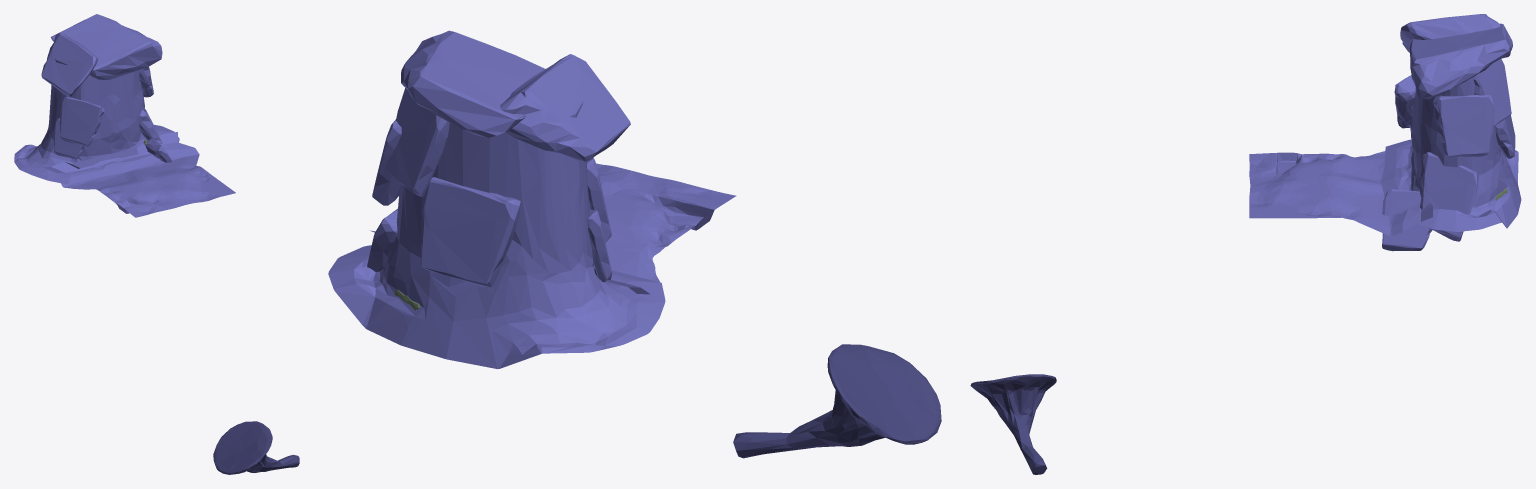
Rendered from CA1_ceiling.fbx.
The picture shows the model from 3 angles, left to right: view 1: azimuth 30°, elevation 25°; view 2: azimuth 150°, elevation 25°; view 3: azimuth 270°, elevation 25°; orthographic projection. The views are drawn at different scales.
Parts seen in each view (by area): view 1: CA1_ceiling2, CA1_ceiling1, CA1_wall_embellishment2_UVd9, big_ass_mush6, CA1_wall_embellishment2_UVd8, CA1_wall_embellishment2_UVd2, CA1_wall_embellishment2_UVd1, CA1_wall_embellishment2_UVd4, CA1_wall_embellishment2_UVd5, CA1_wall_embellishment2_UVd7; view 2: CA1_ceiling2, big_ass_mush6, CA1_wall_embellishment2_UVd9, CA1_ceiling1, CA1_wall_embellishment2_UVd8, CA1_wall_embellishment2_UVd3, CA1_wall_embellishment2_UVd6, CA1_wall_embellishment2_UVd7, CA1_wall_embellishment2_UVd4, CA1_wall_embellishment2_UVd1, CA1_wall_embellishment2_UVd2; view 3: CA1_ceiling1, CA1_ceiling2, CA1_wall_embellishment2_UVd9, big_ass_mush6, CA1_wall_embellishment2_UVd7, CA1_wall_embellishment2_UVd4, CA1_wall_embellishment2_UVd8, CA1_wall_embellishment2_UVd5, CA1_wall_embellishment2_UVd6, CA1_wall_embellishment2_UVd2, CA1_wall_embellishment2_UVd3.
Boxes of the visible parts, x1,y1,x2,y2 form: CA1_ceiling2: (14,59,179,184); CA1_ceiling1: (43,132,235,217); CA1_wall_embellishment2_UVd9: (51,14,162,79); big_ass_mush6: (213,421,299,474); CA1_wall_embellishment2_UVd8: (41,32,98,97); CA1_wall_embellishment2_UVd2: (60,96,104,146); CA1_wall_embellishment2_UVd1: (53,118,84,159); CA1_wall_embellishment2_UVd4: (139,107,162,144); CA1_wall_embellishment2_UVd5: (145,138,172,162); CA1_wall_embellishment2_UVd7: (139,66,153,97); CA1_ceiling2: (328,101,665,369); big_ass_mush6: (733,344,941,458); CA1_wall_embellishment2_UVd9: (401,30,545,137); CA1_ceiling1: (370,163,736,294); CA1_wall_embellishment2_UVd8: (500,54,630,162); CA1_wall_embellishment2_UVd3: (421,177,520,288); CA1_wall_embellishment2_UVd6: (385,88,449,196); CA1_wall_embellishment2_UVd7: (372,119,401,205); CA1_wall_embellishment2_UVd4: (367,208,397,271); CA1_wall_embellishment2_UVd1: (587,209,611,282); CA1_wall_embellishment2_UVd2: (587,157,611,242); CA1_ceiling1: (1249,146,1432,236); CA1_ceiling2: (1381,77,1521,231); CA1_wall_embellishment2_UVd9: (1409,23,1512,99); big_ass_mush6: (970,374,1056,474); CA1_wall_embellishment2_UVd7: (1433,93,1494,157); CA1_wall_embellishment2_UVd4: (1420,152,1478,241); CA1_wall_embellishment2_UVd8: (1400,14,1500,52); CA1_wall_embellishment2_UVd5: (1382,189,1432,251); CA1_wall_embellishment2_UVd6: (1473,59,1511,125); CA1_wall_embellishment2_UVd2: (1394,75,1415,128); CA1_wall_embellishment2_UVd3: (1495,115,1515,158).
Bounding box in the file's own units: 141 × 283 × 333.
